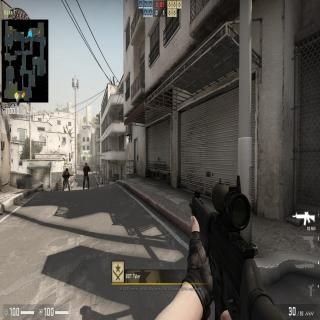T-Head: (85, 162, 88, 166), (66, 168, 68, 172)
